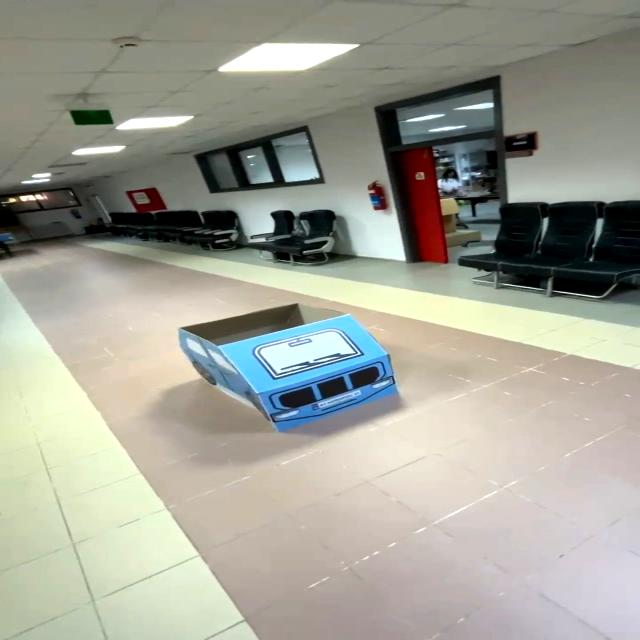blue_car: (148, 288, 417, 453)
